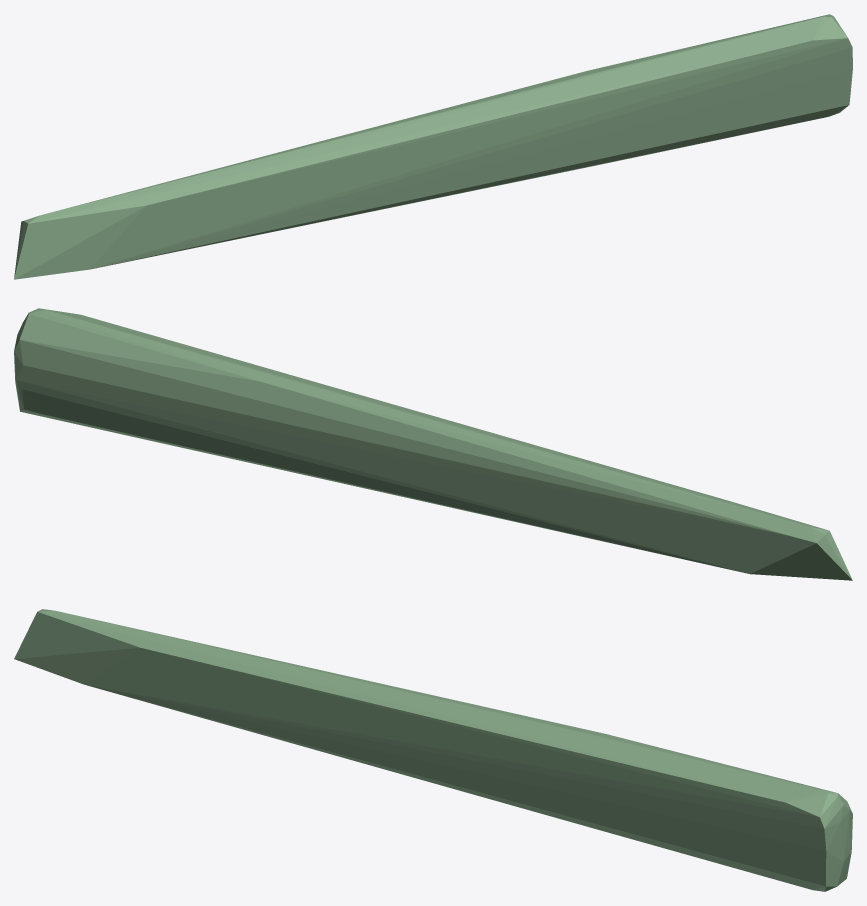
Rendered from paint_supplies_brush_a01.glb.
The picture shows the model from 3 angles, top to bottom: view 1: azimuth 30°, elevation 25°; view 2: azimuth 150°, elevation 25°; view 3: azimuth 330°, elevation 25°; orthographic projection.
Visible parts, largest first — view 1: geometry_0; view 2: geometry_0; view 3: geometry_0.
Boxes of the visible parts, x1,y1,x2,y2 form: geometry_0: [14, 14, 852, 279]; geometry_0: [14, 308, 852, 580]; geometry_0: [14, 609, 852, 891].
Size of the model in its own units: 0.4624 by 0.0511 by 0.032.
